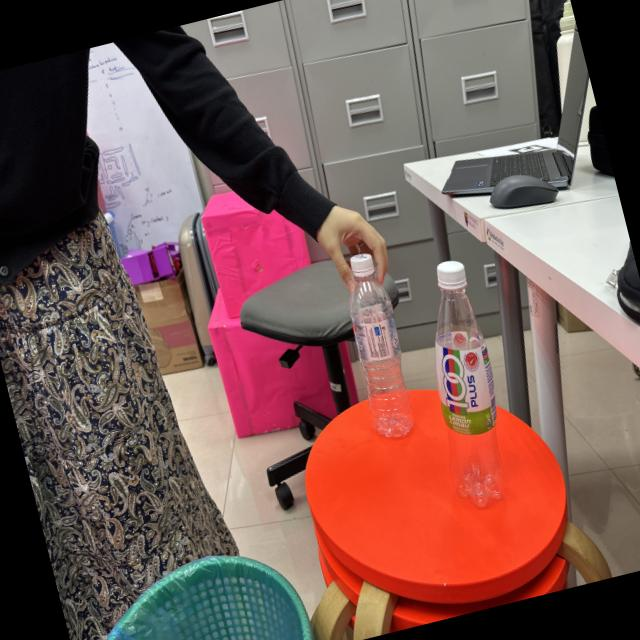dustbin: (57, 532, 321, 640)
plastic_bottle: (396, 247, 538, 524), (327, 241, 432, 466)
